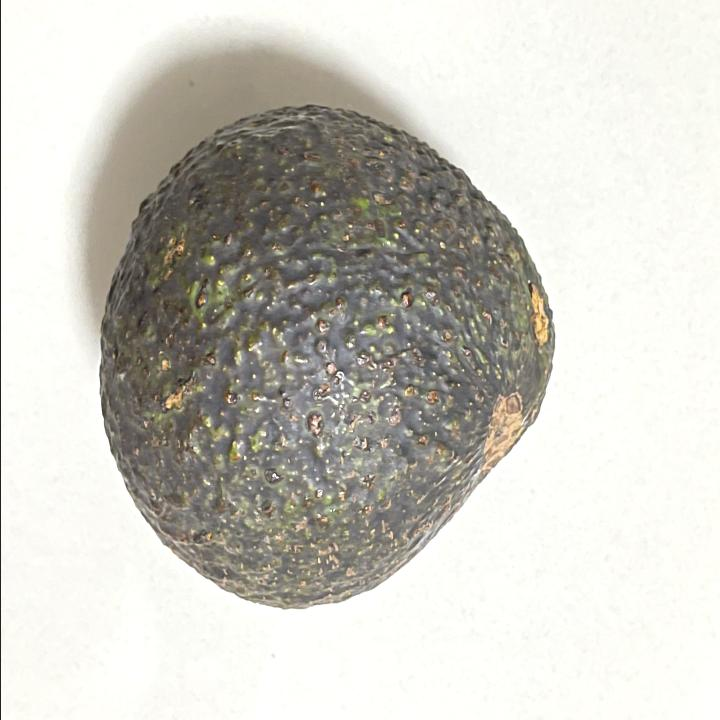Level1: (91, 76, 574, 631)
